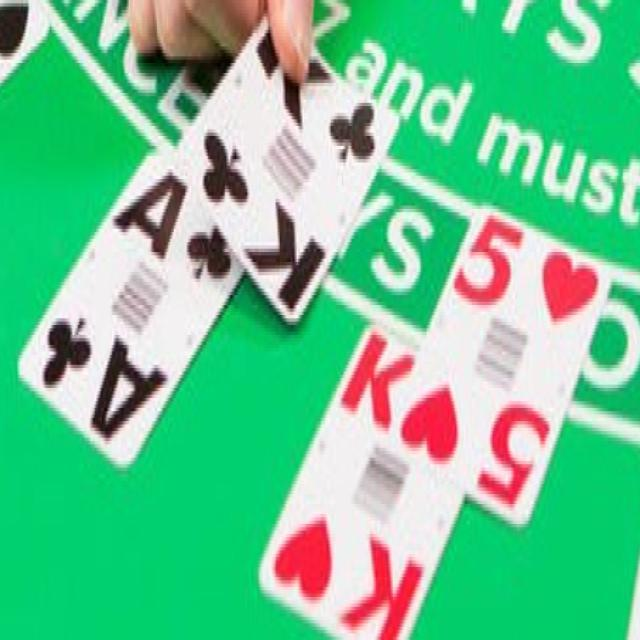Card-5: (426, 203, 610, 525)
Card-A: (18, 151, 243, 470)
Card-K: (259, 319, 494, 638), (183, 7, 399, 319)
